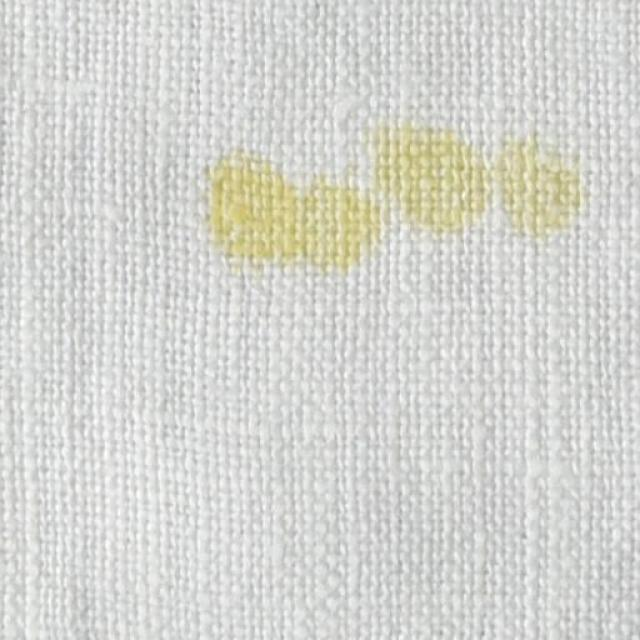Stain: (192, 152, 394, 266), (360, 122, 489, 234), (498, 142, 589, 241)
